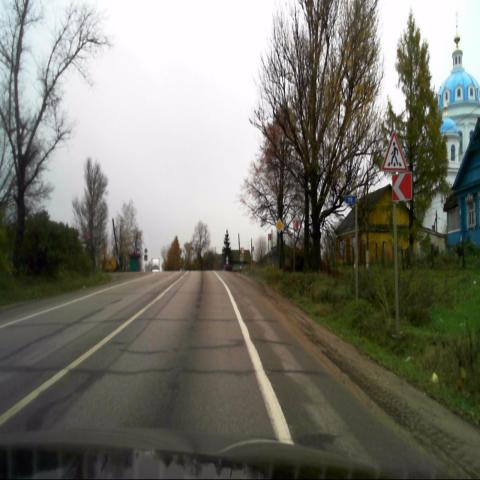1_22: (381, 132, 407, 172)
